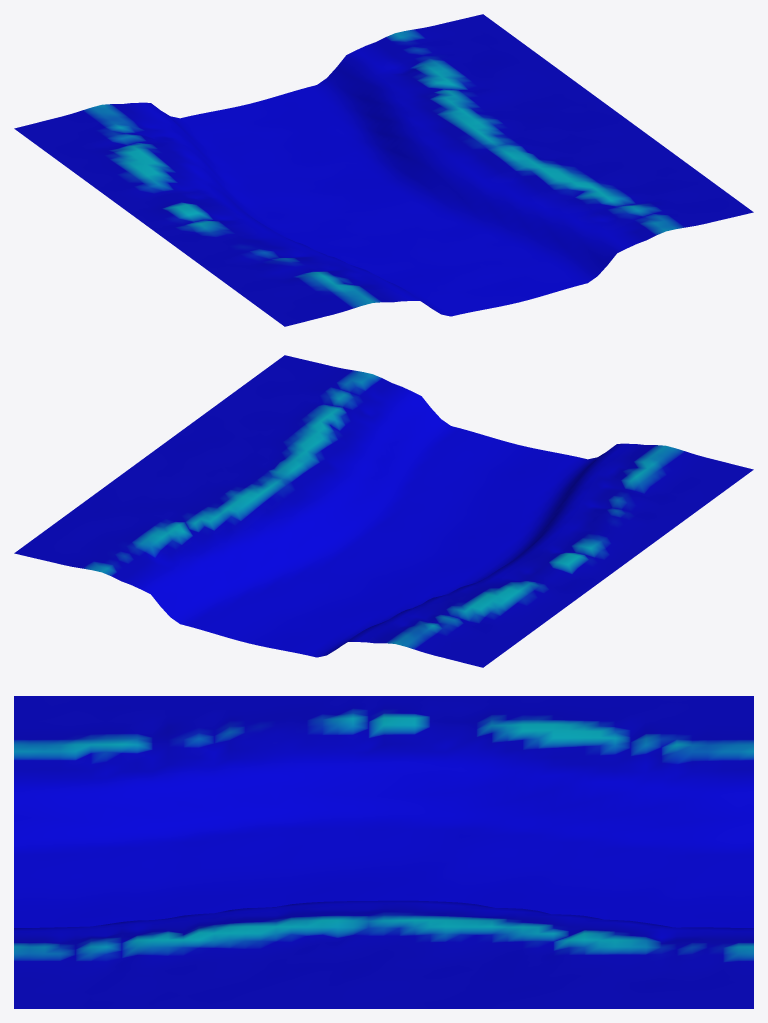
Rendered from channel_straight_b.glb.
The picture shows the model from 3 angles, top to bottom: view 1: azimuth 30°, elevation 25°; view 2: azimuth 150°, elevation 25°; view 3: azimuth 270°, elevation 25°; orthographic projection. The views are drawn at different scales.
Visible parts, largest first — view 1: channel_straight_b; view 2: channel_straight_b; view 3: channel_straight_b.
Part boxes in pixels (bbox=[...]): channel_straight_b: bbox=[14, 14, 753, 326]; channel_straight_b: bbox=[14, 355, 753, 667]; channel_straight_b: bbox=[14, 696, 753, 1008].
Size of what is drawn, in the model's own units: 24 by 1.79 by 24.
